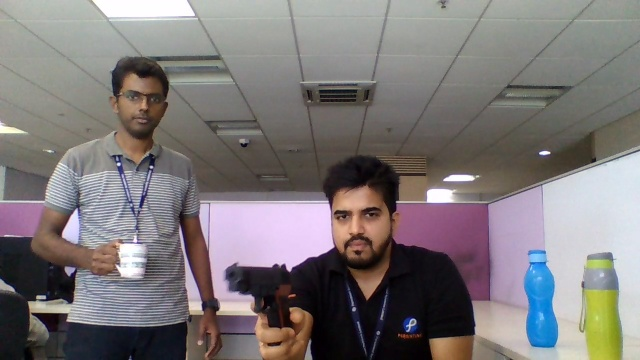gun: (227, 265, 295, 320)
